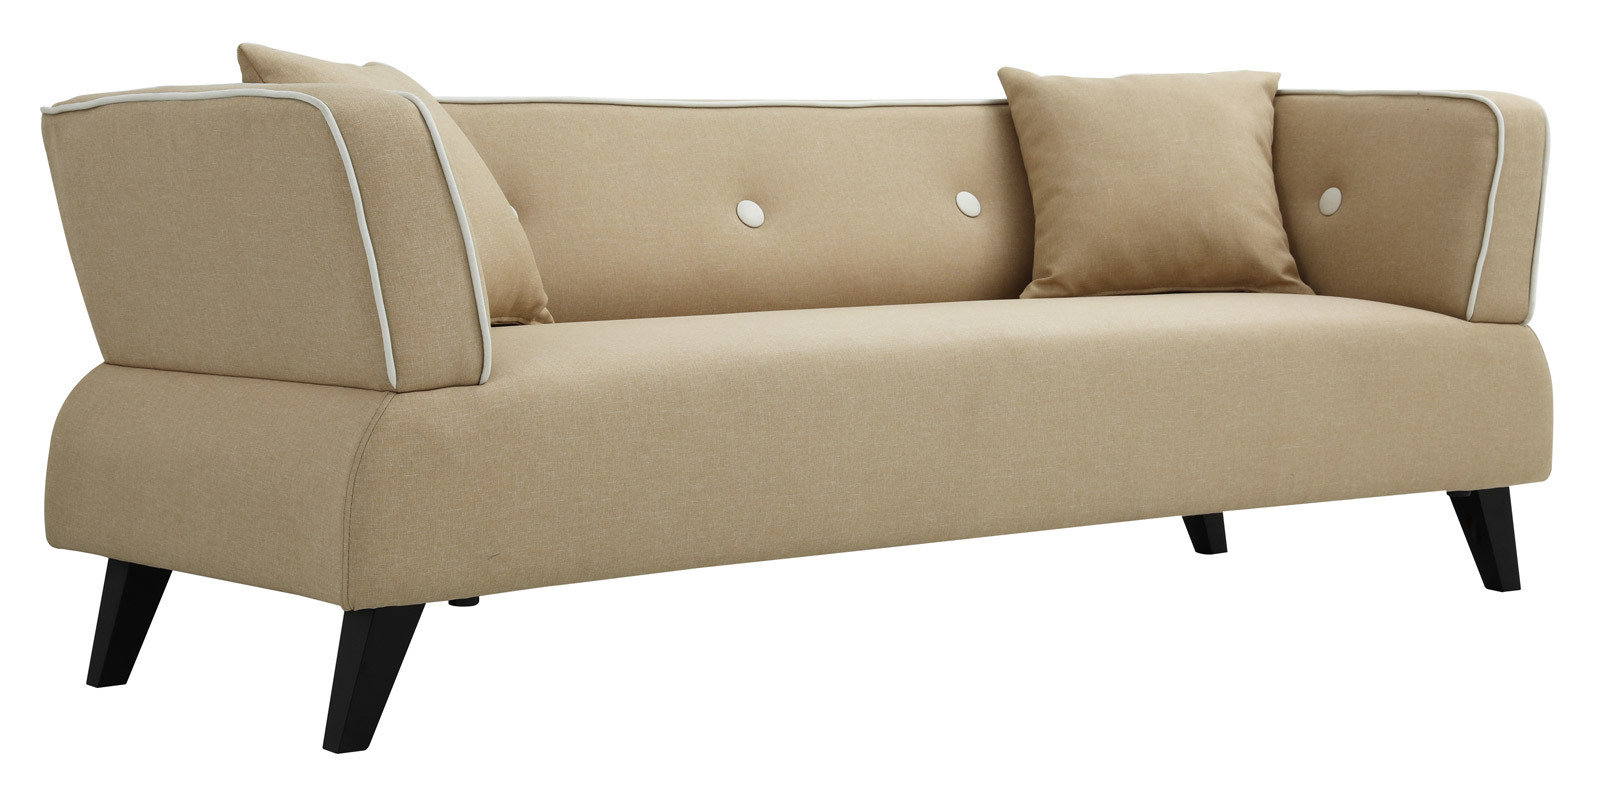Dime Three Seater Sofa in Beige Colour by Zofa: (26, 34, 1576, 763)
